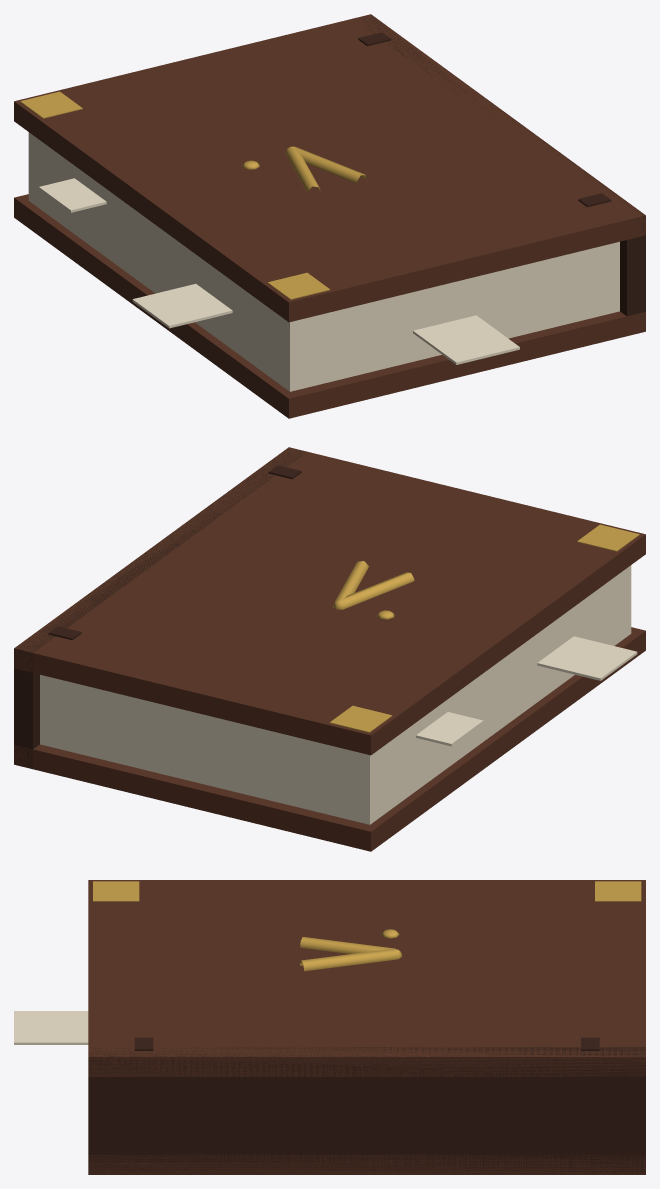
The model's file is SM_PRP_DiarioValdemar.fbx.
3 renders of one model, top to bottom at view 1: azimuth 30°, elevation 25°; view 2: azimuth 150°, elevation 25°; view 3: azimuth 270°, elevation 25°, orthographic.
Parts seen in each view (by area): view 1: SM_PRP_DiarioValdemar; view 2: SM_PRP_DiarioValdemar; view 3: SM_PRP_DiarioValdemar.
Boxes of the visible parts, <box> form: SM_PRP_DiarioValdemar: <box>14,14,645,418</box>; SM_PRP_DiarioValdemar: <box>14,447,645,851</box>; SM_PRP_DiarioValdemar: <box>14,880,645,1174</box>.
Bounding box in the file's own units: 0.52 × 0.151 × 0.68.
